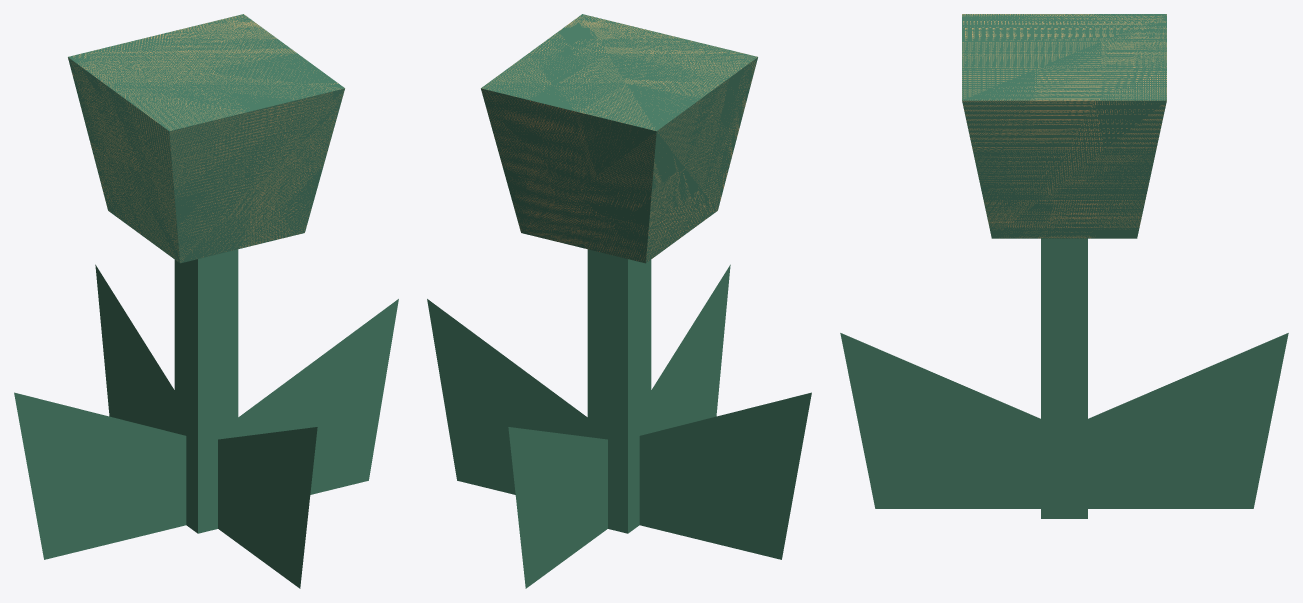
Rendered from naturePack_flat_005.fbx.
3 renders of one model, left to right at view 1: azimuth 30°, elevation 25°; view 2: azimuth 150°, elevation 25°; view 3: azimuth 270°, elevation 25°, orthographic.
Parts seen in each view (by area): view 1: Mesh1_Flower_Tall_Yellow Model, Mesh5_Flower_Tall_Yellow Model, Mesh2_Flower_Tall_Yellow Model, Mesh4_Flower_Tall_Yellow Model, Mesh3_Flower_Tall_Yellow Model; view 2: Mesh1_Flower_Tall_Yellow Model, Mesh5_Flower_Tall_Yellow Model, Mesh2_Flower_Tall_Yellow Model, Mesh3_Flower_Tall_Yellow Model, Mesh4_Flower_Tall_Yellow Model; view 3: Mesh1_Flower_Tall_Yellow Model, Mesh3_Flower_Tall_Yellow Model, Mesh4_Flower_Tall_Yellow Model.
Part boxes in pixels (bbox=[...]): Mesh1_Flower_Tall_Yellow Model: bbox=[68, 14, 344, 533]; Mesh5_Flower_Tall_Yellow Model: bbox=[14, 392, 186, 559]; Mesh2_Flower_Tall_Yellow Model: bbox=[238, 299, 398, 494]; Mesh4_Flower_Tall_Yellow Model: bbox=[218, 427, 317, 588]; Mesh3_Flower_Tall_Yellow Model: bbox=[95, 264, 174, 432]; Mesh1_Flower_Tall_Yellow Model: bbox=[481, 14, 757, 533]; Mesh5_Flower_Tall_Yellow Model: bbox=[639, 392, 811, 559]; Mesh2_Flower_Tall_Yellow Model: bbox=[427, 299, 587, 494]; Mesh3_Flower_Tall_Yellow Model: bbox=[508, 427, 607, 588]; Mesh4_Flower_Tall_Yellow Model: bbox=[651, 264, 730, 432]; Mesh1_Flower_Tall_Yellow Model: bbox=[962, 14, 1166, 518]; Mesh3_Flower_Tall_Yellow Model: bbox=[1088, 333, 1288, 508]; Mesh4_Flower_Tall_Yellow Model: bbox=[840, 333, 1040, 508].
Size of the model in its own units: 0.4859 by 0.54 by 0.4859.
